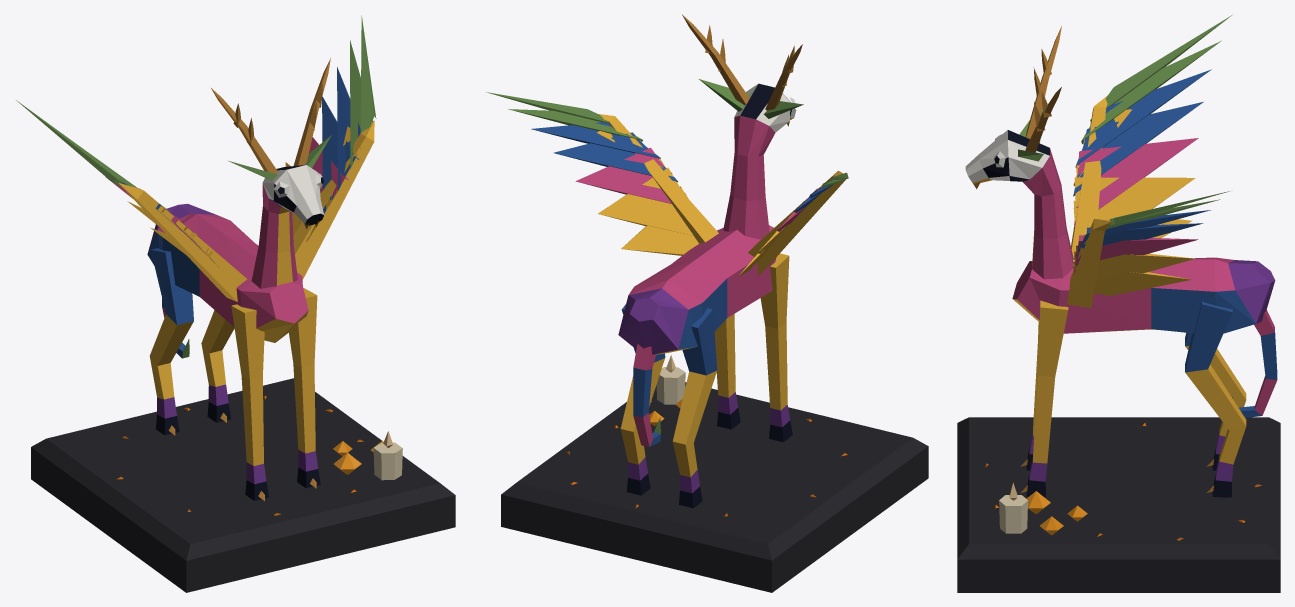
The model's file is alebrije-ea2ca0.glb.
3 views of the same model, side by side, from view 1: azimuth 30°, elevation 25°; view 2: azimuth 150°, elevation 25°; view 3: azimuth 270°, elevation 25° (orthographic). The views are drawn at different scales.
Parts seen in each view (by area): view 1: alebrije-body, veladora-glass; view 2: alebrije-body, veladora-glass; view 3: alebrije-body, veladora-glass.
Part boxes in pixels (bbox=[...]): alebrije-body: bbox=[16, 15, 455, 592]; veladora-glass: bbox=[373, 442, 402, 480]; alebrije-body: bbox=[486, 14, 928, 592]; veladora-glass: bbox=[656, 367, 685, 404]; alebrije-body: bbox=[957, 15, 1280, 592]; veladora-glass: bbox=[999, 495, 1027, 533].
Size of the model in its own units: 0.6448 by 0.8 by 0.5.
